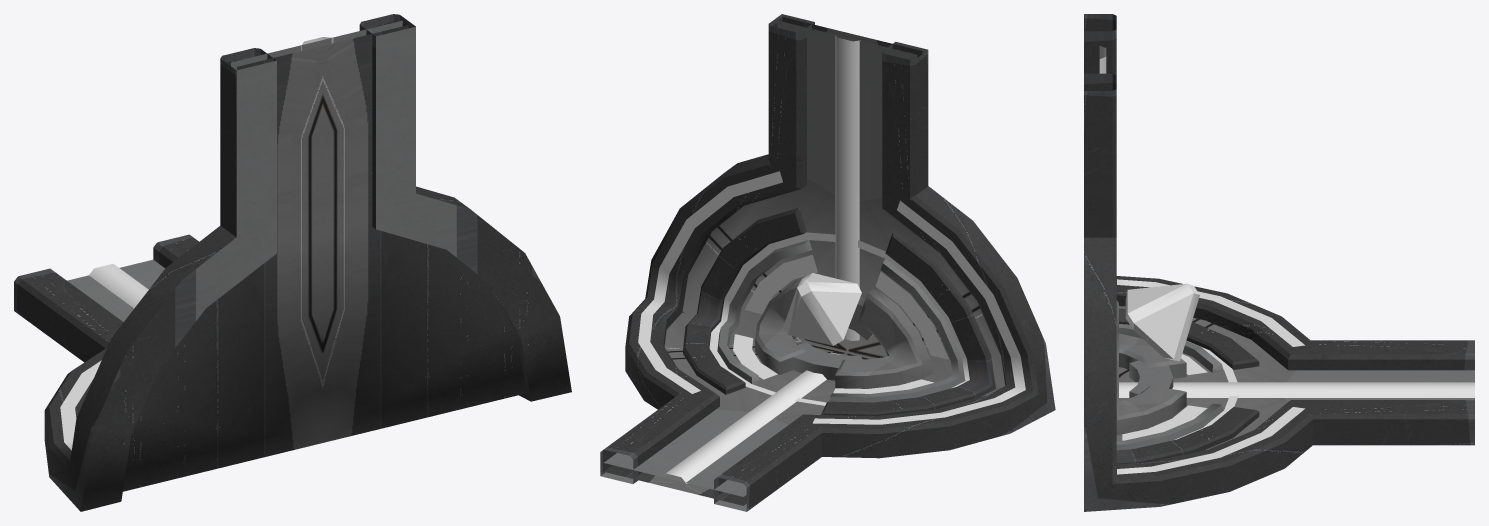
The model's file is Connecter_wall.fbx.
The picture shows the model from 3 angles, left to right: view 1: azimuth 30°, elevation 25°; view 2: azimuth 150°, elevation 25°; view 3: azimuth 270°, elevation 25°; orthographic projection. The views are drawn at different scales.
Visible parts, largest first — view 1: Connecter_wall_body, Connecter_wall_line, Connecter_wall_cainLight; view 2: Connecter_wall_body, Connecter_wall_cainLight, Connecter_wall_line, Pyramid021; view 3: Connecter_wall_body, Connecter_wall_line, Connecter_wall_cainLight, Pyramid021.
Part boxes in pixels (x1=…): Connecter_wall_body: x1=14, y1=14, x2=571, y2=511; Connecter_wall_line: x1=89, y1=37, x2=333, y2=308; Connecter_wall_cainLight: x1=60, y1=360, x2=101, y2=450; Connecter_wall_body: x1=600, y1=14, x2=1055, y2=511; Connecter_wall_cainLight: x1=638, y1=171, x2=1025, y2=424; Connecter_wall_line: x1=664, y1=35, x2=860, y2=483; Pyramid021: x1=783, y1=273, x2=861, y2=345; Connecter_wall_body: x1=1084, y1=14, x2=1474, y2=511; Connecter_wall_line: x1=1099, y1=46, x2=1474, y2=397; Connecter_wall_cainLight: x1=1117, y1=279, x2=1304, y2=474; Pyramid021: x1=1125, y1=283, x2=1199, y2=360.
Size of the model in its own units: 61.04 by 47.92 by 47.92.
